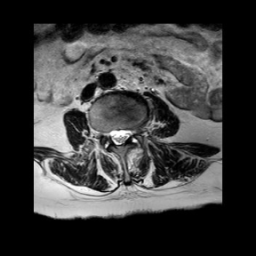CCS_normal: (115, 122, 122, 151)
LFS_stenosis: (130, 120, 138, 141)
LLS_normal: (122, 121, 130, 146)
RFS_normal: (101, 120, 109, 147)
RLS_normal: (109, 120, 115, 146)
